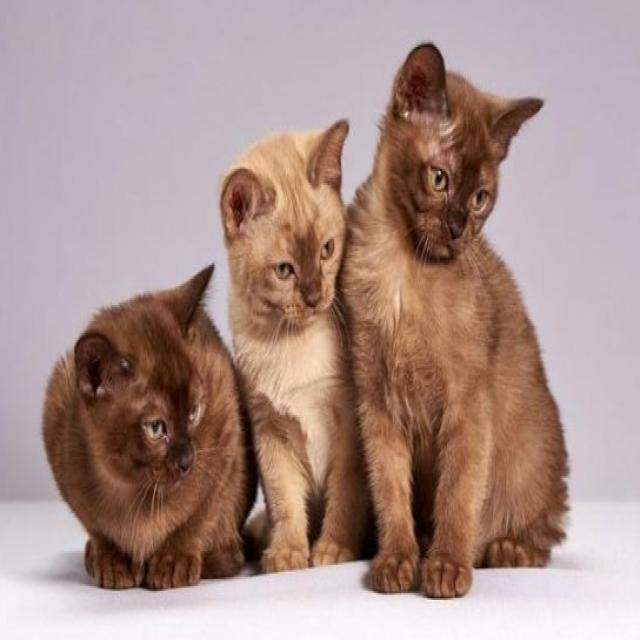cats: (370, 18, 578, 589), (37, 282, 255, 586), (216, 127, 363, 574)
